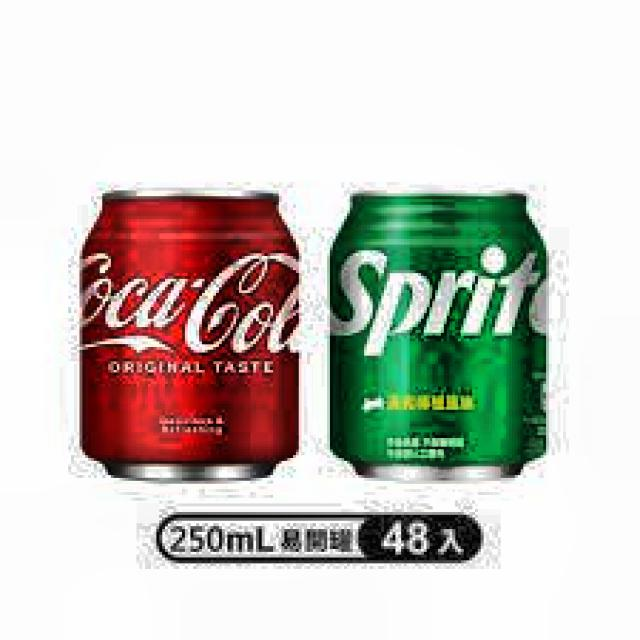can: (319, 170, 556, 500), (71, 176, 310, 488)
